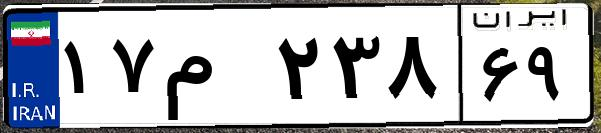1: (57, 26, 110, 100)
2: (270, 28, 330, 110)
3: (330, 28, 385, 110)
6: (475, 38, 525, 113)
7: (110, 28, 158, 98)
8: (385, 28, 445, 110)
9: (525, 38, 570, 115)
م: (158, 20, 270, 120)
